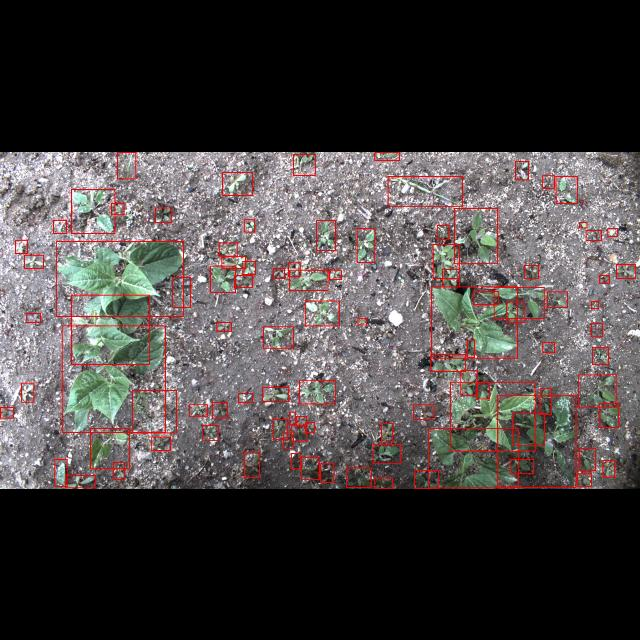crop: (62, 326, 166, 432), (56, 240, 184, 316), (431, 286, 517, 358), (450, 382, 536, 451), (71, 294, 149, 364), (428, 428, 518, 488), (90, 428, 130, 468)
weed: (498, 395, 576, 487), (454, 207, 498, 263), (388, 175, 462, 205), (72, 189, 115, 233), (133, 390, 177, 432), (494, 286, 544, 318), (578, 374, 616, 406), (512, 413, 544, 445), (305, 300, 339, 326), (433, 244, 459, 278), (299, 381, 335, 404), (290, 269, 328, 289), (210, 264, 236, 292), (222, 172, 252, 194), (263, 327, 293, 348), (357, 228, 375, 262), (430, 354, 466, 371), (316, 220, 336, 250), (173, 277, 191, 307), (556, 175, 576, 202), (373, 443, 401, 462), (346, 467, 372, 487), (118, 152, 136, 178), (293, 153, 315, 174), (414, 470, 438, 488), (460, 370, 478, 394), (600, 403, 618, 427), (244, 451, 260, 477), (263, 386, 289, 402), (301, 457, 319, 479), (506, 300, 524, 322), (510, 458, 534, 474), (65, 475, 95, 487), (579, 448, 595, 470), (55, 458, 67, 486), (474, 290, 498, 304), (442, 268, 460, 286), (272, 419, 288, 439), (414, 404, 434, 420), (540, 388, 552, 414), (154, 206, 172, 222), (222, 256, 246, 268), (592, 346, 608, 364), (24, 254, 44, 268), (616, 264, 636, 278), (547, 292, 567, 306), (320, 463, 334, 482), (218, 242, 238, 255), (212, 402, 228, 418), (202, 424, 218, 440), (152, 436, 170, 450), (22, 382, 34, 402), (292, 425, 306, 441), (189, 404, 207, 416), (235, 275, 253, 287), (516, 160, 528, 178), (603, 460, 615, 478), (374, 151, 400, 159), (476, 382, 489, 398), (382, 422, 392, 442), (114, 462, 125, 480), (524, 264, 538, 278), (437, 224, 449, 240), (242, 260, 255, 274), (375, 478, 393, 488), (15, 239, 27, 253), (53, 220, 67, 232), (288, 262, 300, 276), (577, 474, 591, 486), (283, 432, 293, 448), (586, 230, 602, 240), (112, 202, 125, 214), (543, 175, 555, 188), (216, 322, 232, 331), (26, 312, 40, 322), (0, 407, 14, 417), (592, 322, 602, 336), (243, 219, 254, 231), (292, 453, 300, 469), (238, 393, 252, 402), (273, 267, 285, 277), (329, 269, 341, 279), (543, 342, 555, 352), (468, 339, 474, 356), (297, 416, 307, 426), (305, 422, 315, 432), (599, 274, 609, 282), (607, 228, 617, 236), (290, 412, 296, 424), (358, 318, 367, 324), (592, 300, 598, 308), (580, 222, 586, 226)
